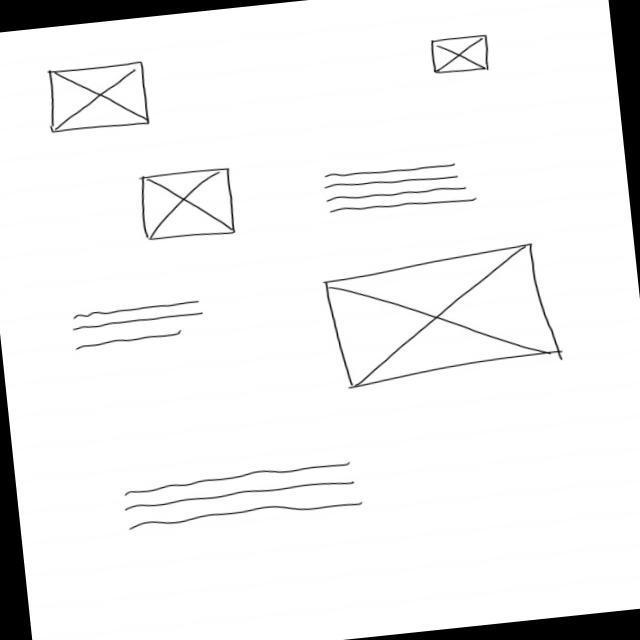image: (321, 239, 566, 392), (43, 60, 153, 136), (137, 166, 239, 245), (429, 32, 493, 79)
textbox: (121, 459, 366, 533), (320, 156, 487, 220), (68, 296, 210, 354)
